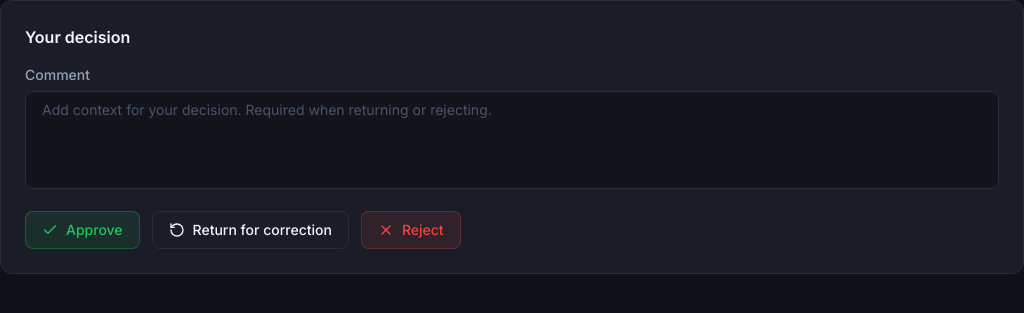
Test case: DecisionPanel › refuses to return a record without explaining why
The image size is (1024, 313).
Click the button "Return for correction".
click(250, 230)  # box [152, 211, 349, 249]
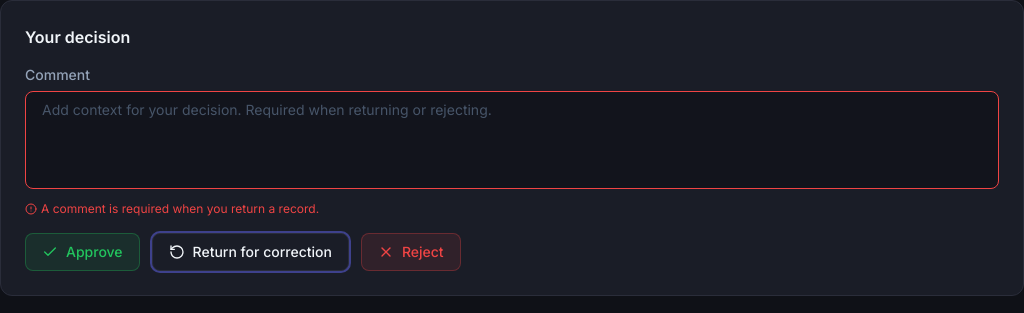
Expected: the text "A comment is required when you return a record." is shown, [25, 201, 319, 216]
